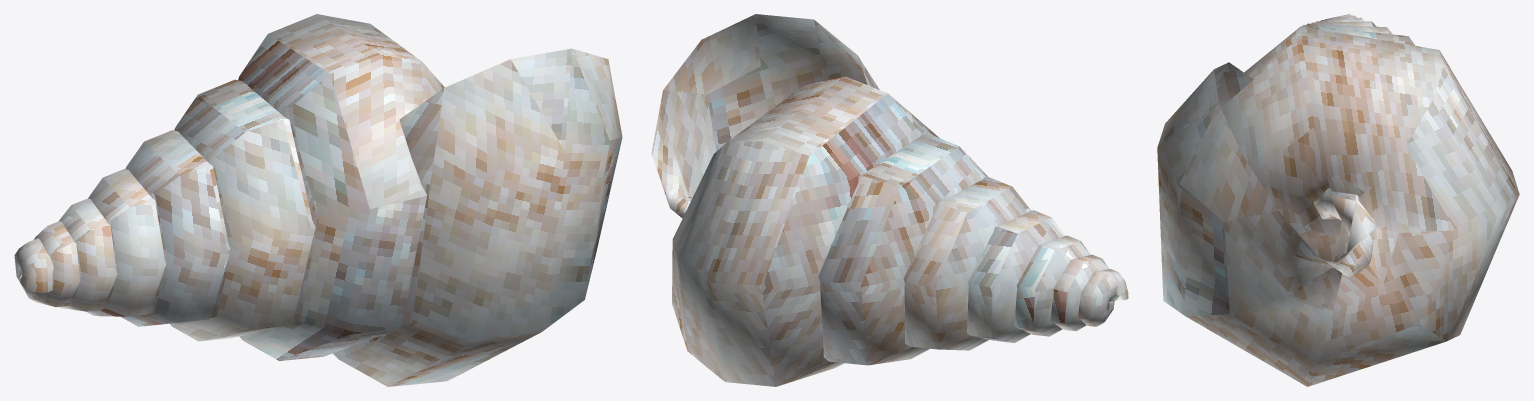
File: sirena_conch.fbx
3 renders of one model, left to right at view 1: azimuth 30°, elevation 25°; view 2: azimuth 150°, elevation 25°; view 3: azimuth 270°, elevation 25°, orthographic. The views are drawn at different scales.
Parts seen in each view (by area): view 1: sirena_conch; view 2: sirena_conch; view 3: sirena_conch.
Part boxes in pixels (left/top/right/bottom): sirena_conch: left=14, top=14, right=622, bottom=386; sirena_conch: left=651, top=14, right=1128, bottom=386; sirena_conch: left=1157, top=14, right=1519, bottom=386.
Size of the model in its own units: 86.15 by 51.9 by 53.03.
1 material, 1 textured.
